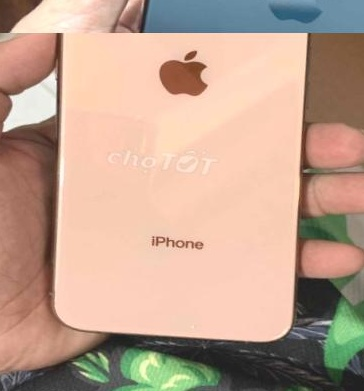scratch: (172, 310, 213, 338)
